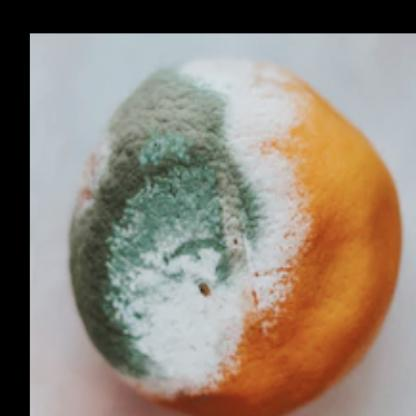rotten: (70, 49, 401, 416)
